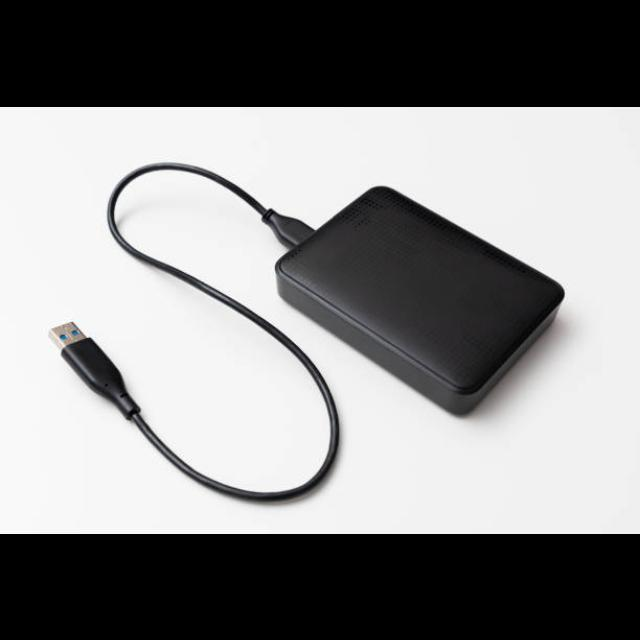HDD: (275, 185, 566, 418)
